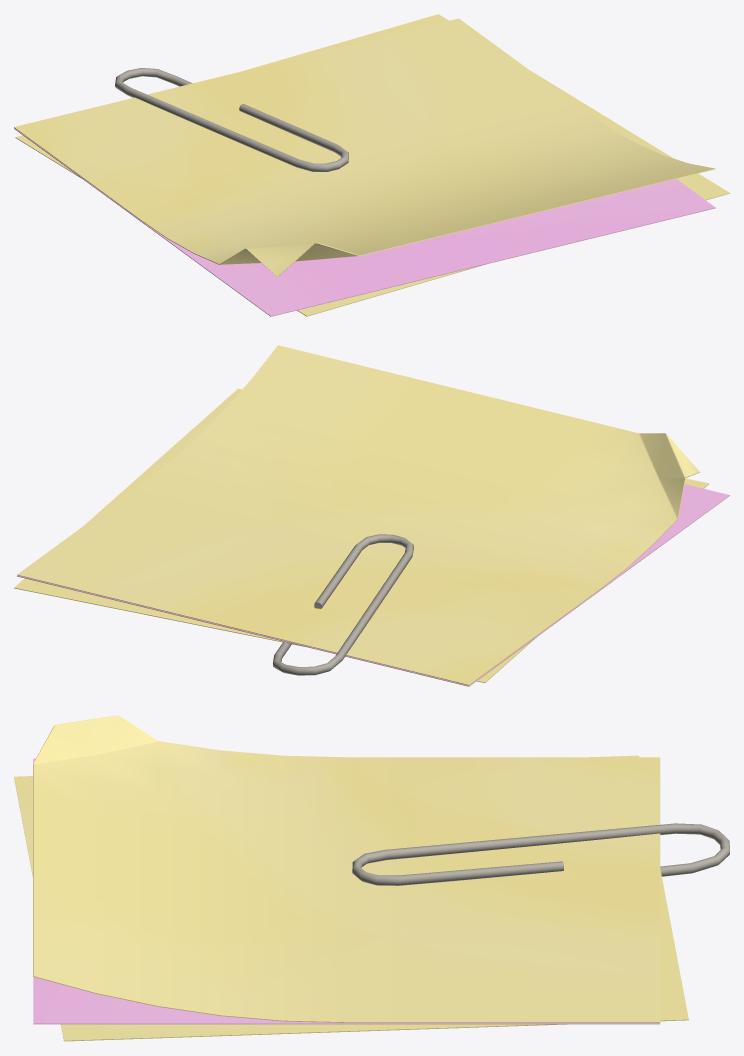
File: paperclip.glb
The picture shows the model from 3 angles, top to bottom: view 1: azimuth 30°, elevation 25°; view 2: azimuth 150°, elevation 25°; view 3: azimuth 270°, elevation 25°; orthographic projection. The views are drawn at different scales.
Visible parts, largest first — view 1: Plane.004, Plane.003; view 2: Plane.004, Plane.003; view 3: Plane.004, Plane.003.
Boxes of the visible parts, x1=… form: Plane.004: x1=14, y1=14, x2=729, y2=316; Plane.003: x1=115, y1=68, x2=348, y2=171; Plane.004: x1=14, y1=345, x2=729, y2=686; Plane.003: x1=273, y1=534, x2=413, y2=675; Plane.004: x1=14, y1=715, x2=688, y2=1041; Plane.003: x1=352, y1=823, x2=729, y2=885.
Bounding box in the file's own units: 4.03 × 0.5172 × 4.27.
1 material, 1 textured.
